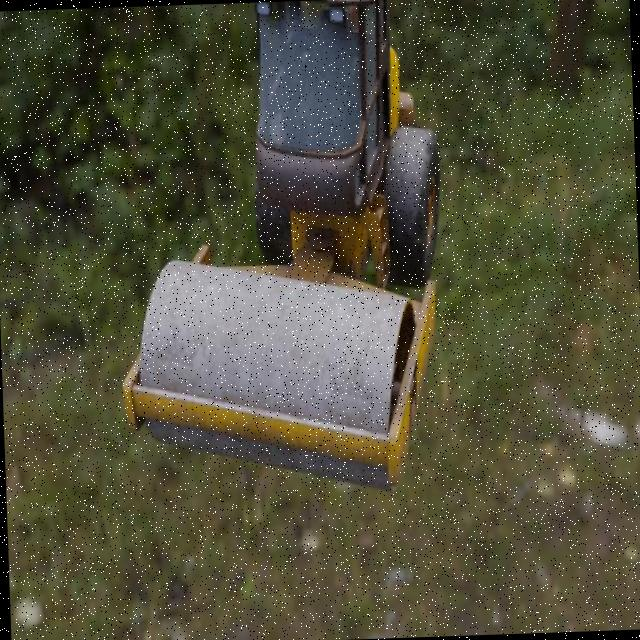Roller: (108, 0, 451, 502)
